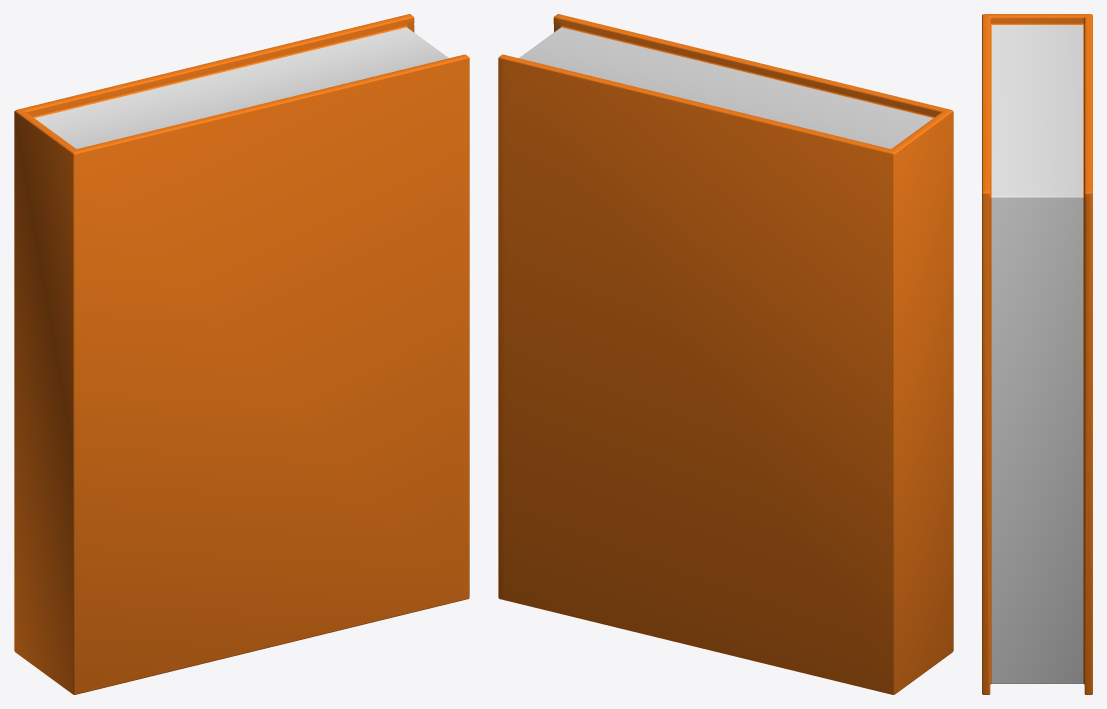
The model's file is book.glb.
3 views of the same model, side by side, from view 1: azimuth 30°, elevation 25°; view 2: azimuth 150°, elevation 25°; view 3: azimuth 270°, elevation 25° (orthographic). The views are drawn at different scales.
Visible parts, largest first — view 1: Book; view 2: Book; view 3: Book.
Boxes of the visible parts, x1=… form: Book: x1=14, y1=14, x2=469, y2=694; Book: x1=498, y1=14, x2=953, y2=694; Book: x1=982, y1=14, x2=1092, y2=694.
Bounding box in the file's own units: 1.53 × 2 × 0.4.
